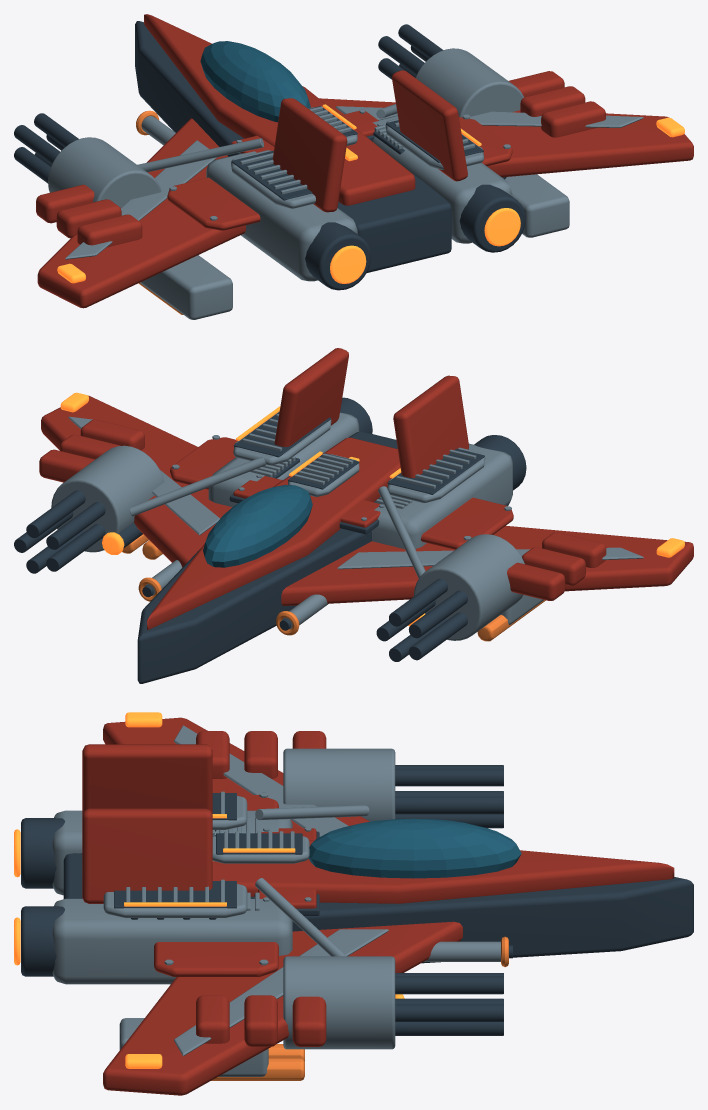
Rendered from Gunship.fbx.
The picture shows the model from 3 angles, top to bottom: view 1: azimuth 30°, elevation 25°; view 2: azimuth 150°, elevation 25°; view 3: azimuth 270°, elevation 25°; orthographic projection. The views are drawn at different scales.
Parts seen in each view (by area): view 1: Tapered titanium fuselage.005, Swept main wing.010, Swept main wing.011, Upper ceramic spine.005, Engine nacelle.010, Vertical stabilizer.010, Smoked canopy.005, Heavy rotary mount.004, Vertical stabilizer.011, Heavy rotary mount.005, Missile rack.004, Engine nacelle.011 (+26 smaller); view 2: Tapered titanium fuselage.005, Swept main wing.010, Upper ceramic spine.005, Swept main wing.011, Heavy rotary mount.004, Smoked canopy.005, Heavy rotary mount.005, Vertical stabilizer.010, Engine nacelle.010, Vertical stabilizer.011, Inset service armor.233, Engine nacelle.011 (+34 smaller); view 3: Tapered titanium fuselage.005, Swept main wing.011, Upper ceramic spine.005, Engine nacelle.011, Vertical stabilizer.011, Smoked canopy.005, Heavy rotary mount.005, Vertical stabilizer.010, Heavy rotary mount.004, Inset service armor.235, Wing accent.011, Swept main wing.010 (+29 smaller).
Part boxes in pixels (x1=…): Tapered titanium fuselage.005: x1=135, y1=21, x2=451, y2=273; Swept main wing.010: x1=37, y1=118, x2=245, y2=308; Swept main wing.011: x1=319, y1=98, x2=693, y2=177; Upper ceramic spine.005: x1=144, y1=14, x2=415, y2=205; Engine nacelle.010: x1=206, y1=151, x2=357, y2=281; Vertical stabilizer.010: x1=272, y1=98, x2=347, y2=212; Smoked canopy.005: x1=200, y1=41, x2=310, y2=122; Heavy rotary mount.004: x1=48, y1=137, x2=161, y2=207; Vertical stabilizer.011: x1=392, y1=70, x2=467, y2=181; Heavy rotary mount.005: x1=415, y1=48, x2=524, y2=117; Missile rack.004: x1=140, y1=255, x2=232, y2=319; Engine nacelle.011: x1=372, y1=115, x2=512, y2=243; Tapered titanium fuselage.005: x1=137, y1=431, x2=397, y2=683; Swept main wing.010: x1=281, y1=526, x2=693, y2=605; Upper ceramic spine.005: x1=147, y1=437, x2=400, y2=629; Swept main wing.011: x1=41, y1=395, x2=232, y2=567; Heavy rotary mount.004: x1=413, y1=534, x2=524, y2=640; Smoked canopy.005: x1=203, y1=485, x2=312, y2=567; Heavy rotary mount.005: x1=51, y1=445, x2=164, y2=552; Vertical stabilizer.010: x1=393, y1=375, x2=468, y2=478; Engine nacelle.010: x1=371, y1=443, x2=512, y2=548; Vertical stabilizer.011: x1=274, y1=348, x2=348, y2=446; Inset service armor.233: x1=420, y1=497, x2=513, y2=549; Engine nacelle.011: x1=208, y1=412, x2=359, y2=506; Tapered titanium fuselage.005: x1=63, y1=853, x2=693, y2=963; Swept main wing.011: x1=103, y1=921, x2=462, y2=1095; Upper ceramic spine.005: x1=212, y1=840, x2=674, y2=903; Engine nacelle.011: x1=52, y1=898, x2=292, y2=984; Vertical stabilizer.011: x1=82, y1=808, x2=212, y2=903; Smoked canopy.005: x1=308, y1=818, x2=521, y2=878; Heavy rotary mount.005: x1=283, y1=956, x2=395, y2=1049; Vertical stabilizer.010: x1=82, y1=744, x2=212, y2=814; Heavy rotary mount.004: x1=283, y1=748, x2=395, y2=821; Inset service armor.235: x1=154, y1=942, x2=278, y2=976; Wing accent.011: x1=174, y1=929, x2=388, y2=1056; Swept main wing.010: x1=103, y1=717, x2=369, y2=828.
Bounding box in the file's own units: 459 × 118 × 365.
